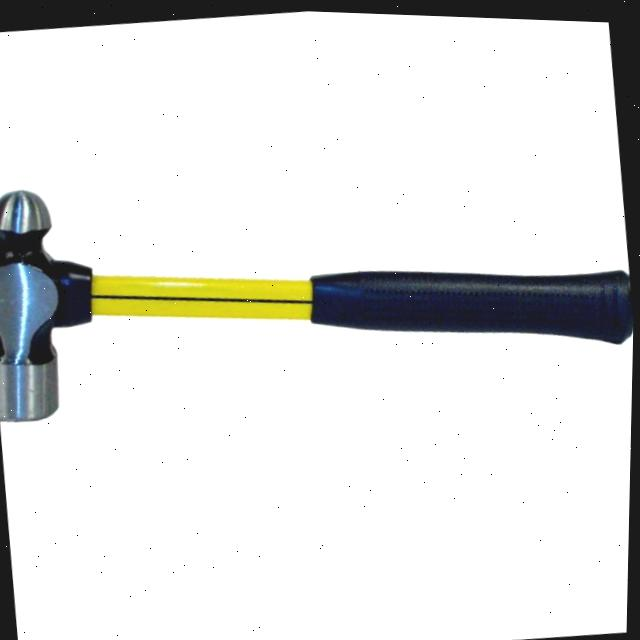hammer: (0, 116, 638, 453)
